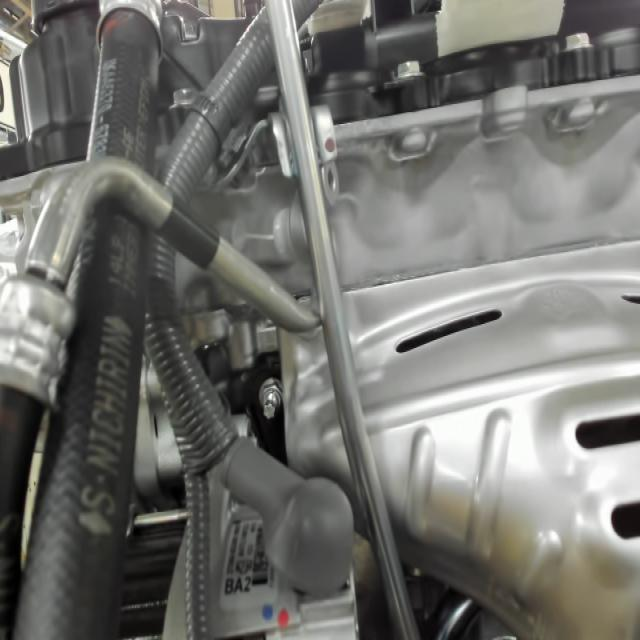Alternator-BA2: (223, 569, 262, 604)
Hose Discharge-HT: (152, 191, 224, 277)
